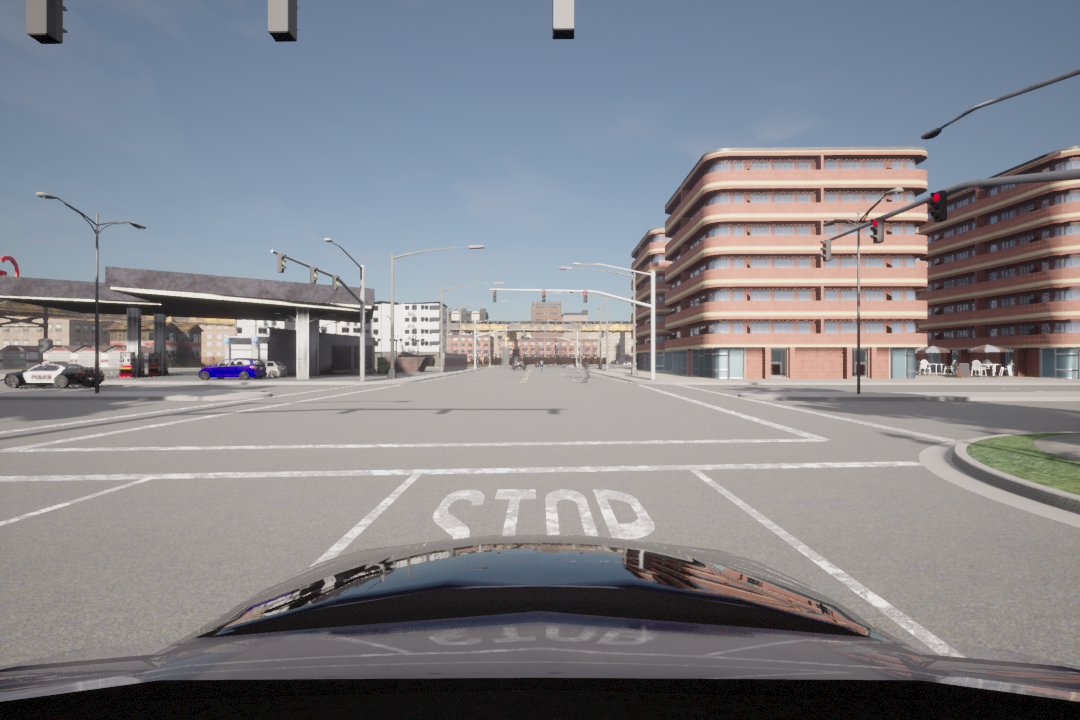TrafficLight: (924, 190, 948, 224), (869, 217, 886, 244), (274, 249, 287, 274), (819, 237, 832, 261), (309, 262, 321, 286), (331, 274, 342, 294), (488, 288, 497, 303), (582, 290, 590, 304), (540, 287, 546, 304)
